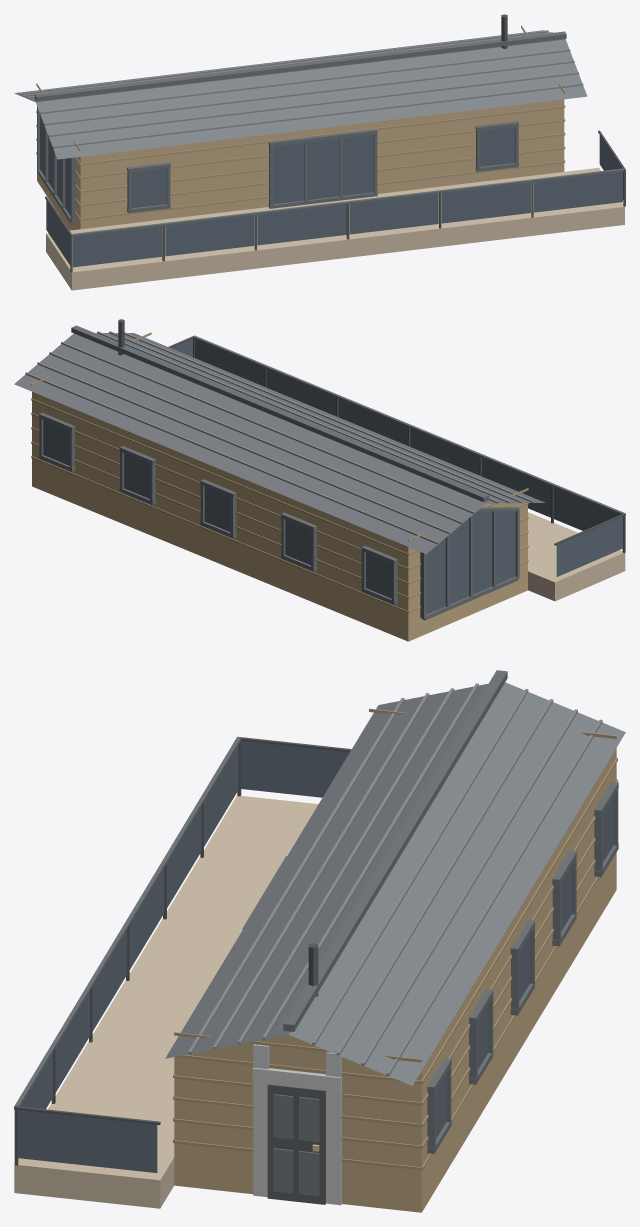
3 renders of one model, top to bottom at view 1: azimuth 30°, elevation 25°; view 2: azimuth 150°, elevation 25°; view 3: azimuth 270°, elevation 25°, orthographic. The views are drawn at different scales.
Parts seen in each view (by area): view 1: slate, door_wood, larch, slate_dk, slate_lt, door_wood_p, window_glass_004, window_glass_002, window_glass_003, window_glass_005, window_glass_001, window_glass_006 (+9 smaller); view 2: slate, door_wood, slate_dk, slate_lt, window_glass_014, door_wood_p, larch, window_glass_007, window_glass_001, window_glass_002, window_glass_005, window_glass_003 (+8 smaller); view 3: slate, door_wood, larch, slate_dk, slate_lt, door_wood_p, window_glass_008, stone_band, window_glass_007, door_dark_p, door_dark, pipe (+6 smaller).
Part boxes in pixels (<box>): slate: <box>14,30,587,159</box>; door_wood: <box>37,99,564,230</box>; larch: <box>46,167,624,290</box>; slate_dk: <box>34,31,624,236</box>; slate_lt: <box>18,30,583,148</box>; door_wood_p: <box>36,25,565,220</box>; window_glass_004: <box>349,193,438,234</box>; window_glass_002: <box>165,215,254,256</box>; window_glass_003: <box>257,204,346,245</box>; window_glass_005: <box>441,182,530,223</box>; window_glass_001: <box>73,226,161,267</box>; window_glass_006: <box>534,171,622,212</box>; slate: <box>14,333,545,554</box>; door_wood: <box>32,392,527,641</box>; slate_dk: <box>39,325,625,620</box>; slate_lt: <box>25,331,534,544</box>; window_glass_014: <box>426,511,515,614</box>; door_wood_p: <box>31,332,528,613</box>; larch: <box>528,512,625,601</box>; window_glass_007: <box>556,516,623,576</box>; window_glass_001: <box>553,487,620,530</box>; window_glass_002: <box>482,457,550,517</box>; window_glass_005: <box>266,369,335,415</box>; window_glass_003: <box>410,428,479,474</box>; slate: <box>165,682,625,1085</box>; door_wood: <box>174,748,616,1212</box>; larch: <box>14,795,318,1208</box>; slate_dk: <box>14,670,618,1153</box>; slate_lt: <box>188,683,602,1075</box>; door_wood_p: <box>173,708,617,1170</box>; window_glass_008: <box>18,1110,157,1172</box>; stone_band: <box>252,1044,341,1205</box>; window_glass_007: <box>240,740,349,797</box>; door_dark_p: <box>273,1094,319,1196</box>; door_dark: <box>267,1084,325,1204</box>; pipe: <box>14,737,351,1165</box>.
Size of the model in its own units: 15.28 by 4.01 by 9.75.
